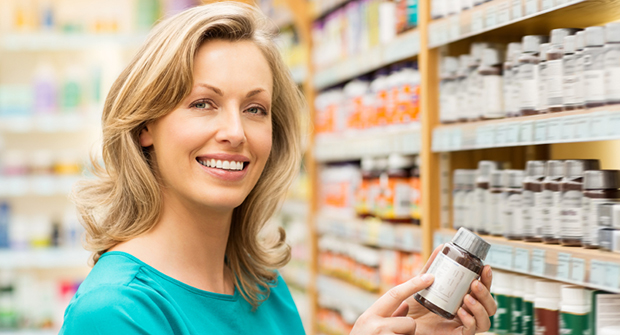Age_30_40: (145, 25, 287, 211)
E_White: (145, 25, 287, 211)
Emotion_Happy: (145, 25, 287, 211)
G_ Female: (145, 25, 287, 211)
